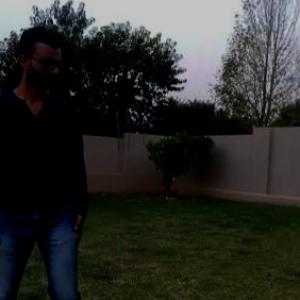follow: (0, 10, 101, 299)
